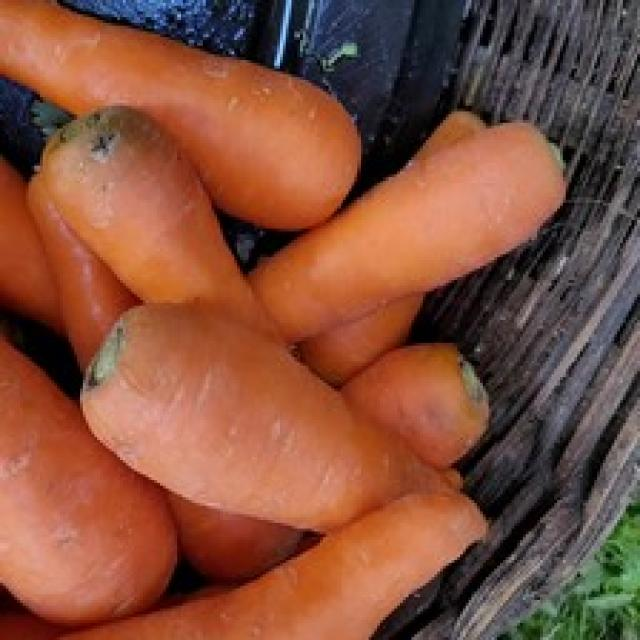Fresh_Carrot: (91, 320, 449, 530), (0, 5, 347, 213), (271, 138, 564, 350), (44, 129, 288, 354), (124, 490, 479, 635), (0, 346, 157, 609)
